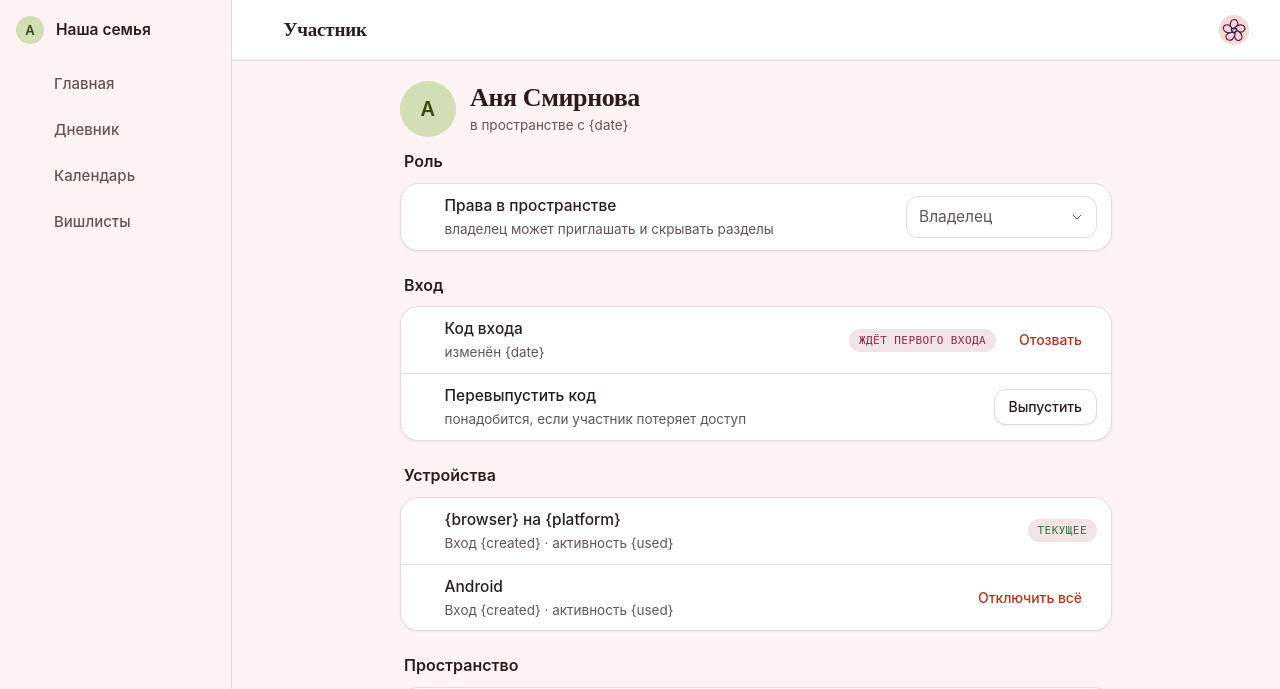
Test: MemberCardScreen › promotes the other retained sign-in and never refetches as the forgotten one
Expected: the text "Код входа" is shown, [444,317,523,341]
Click the button "Отключить всё" at (1030, 598), box [963,580,1097,616]
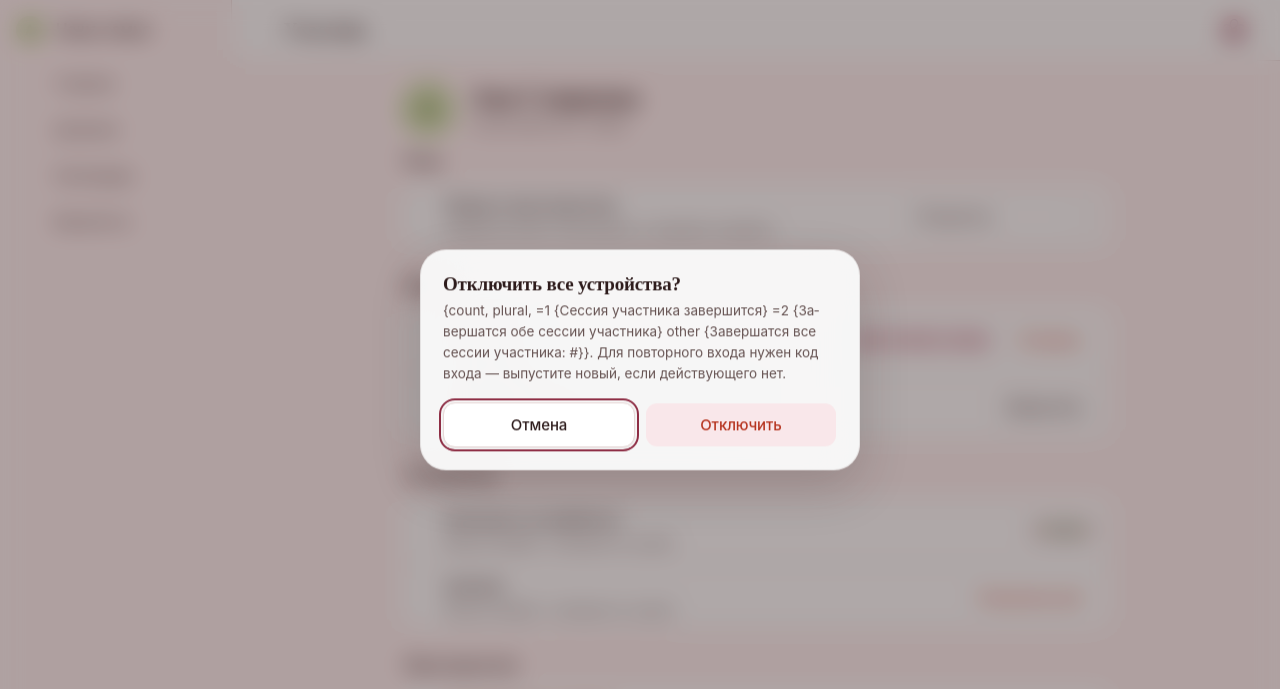
Click the button "Отключить" at (741, 425), box [645,402,837,448]
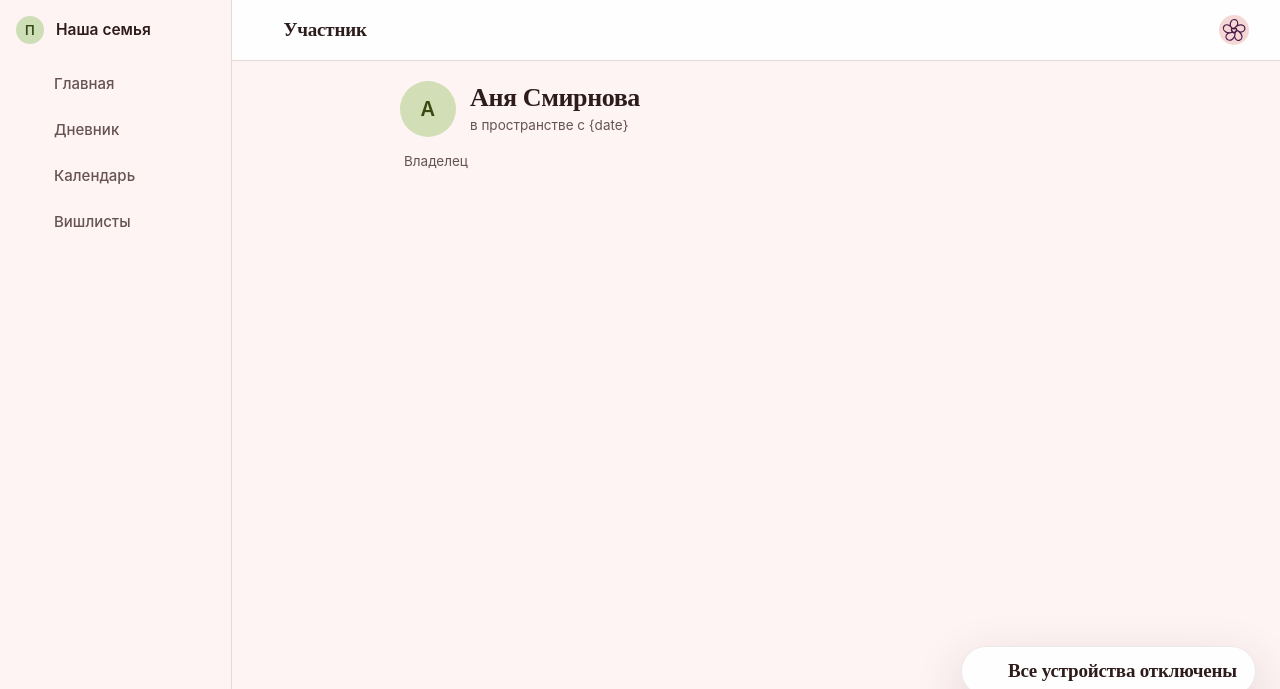
Expected: the text "Владелец" is shown, [404,153,468,169]
Expected: the text "Права в пространстве" is gone
